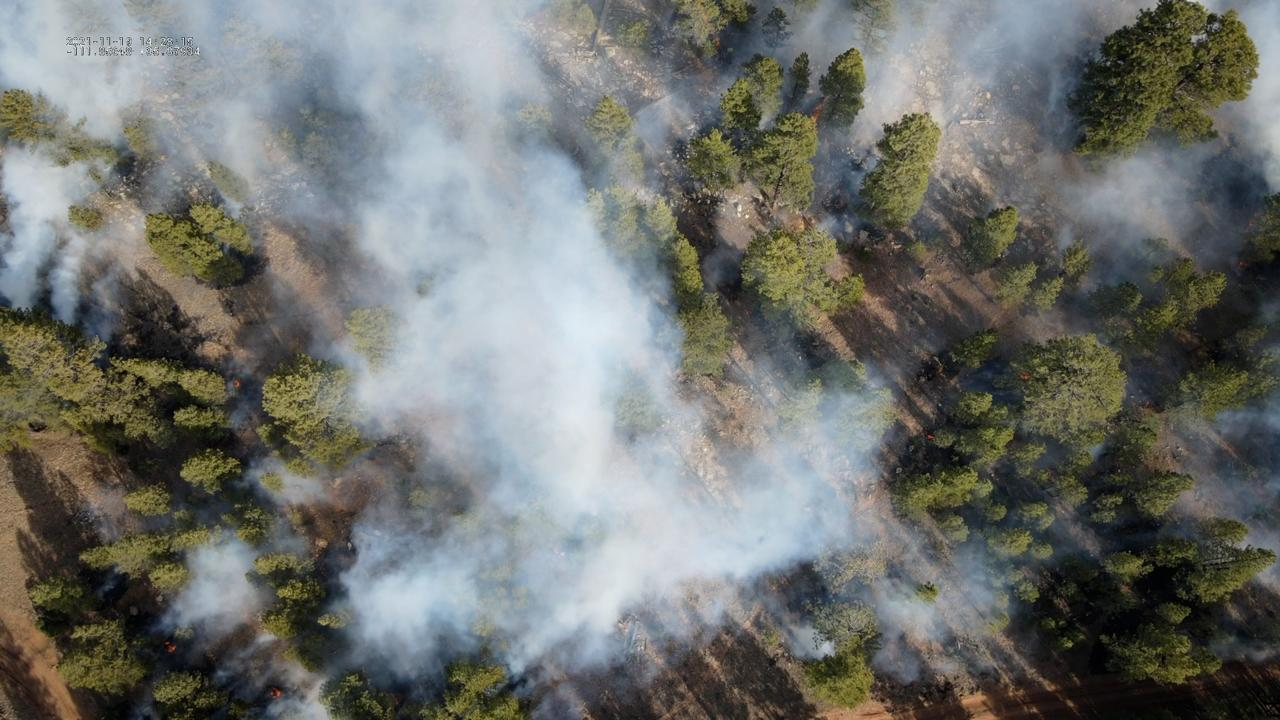fire: (812, 94, 829, 119), (164, 639, 176, 654), (270, 687, 282, 699), (714, 34, 721, 50), (1019, 371, 1031, 380), (232, 378, 241, 389), (925, 433, 936, 442)
smoke: (0, 0, 1280, 720)
